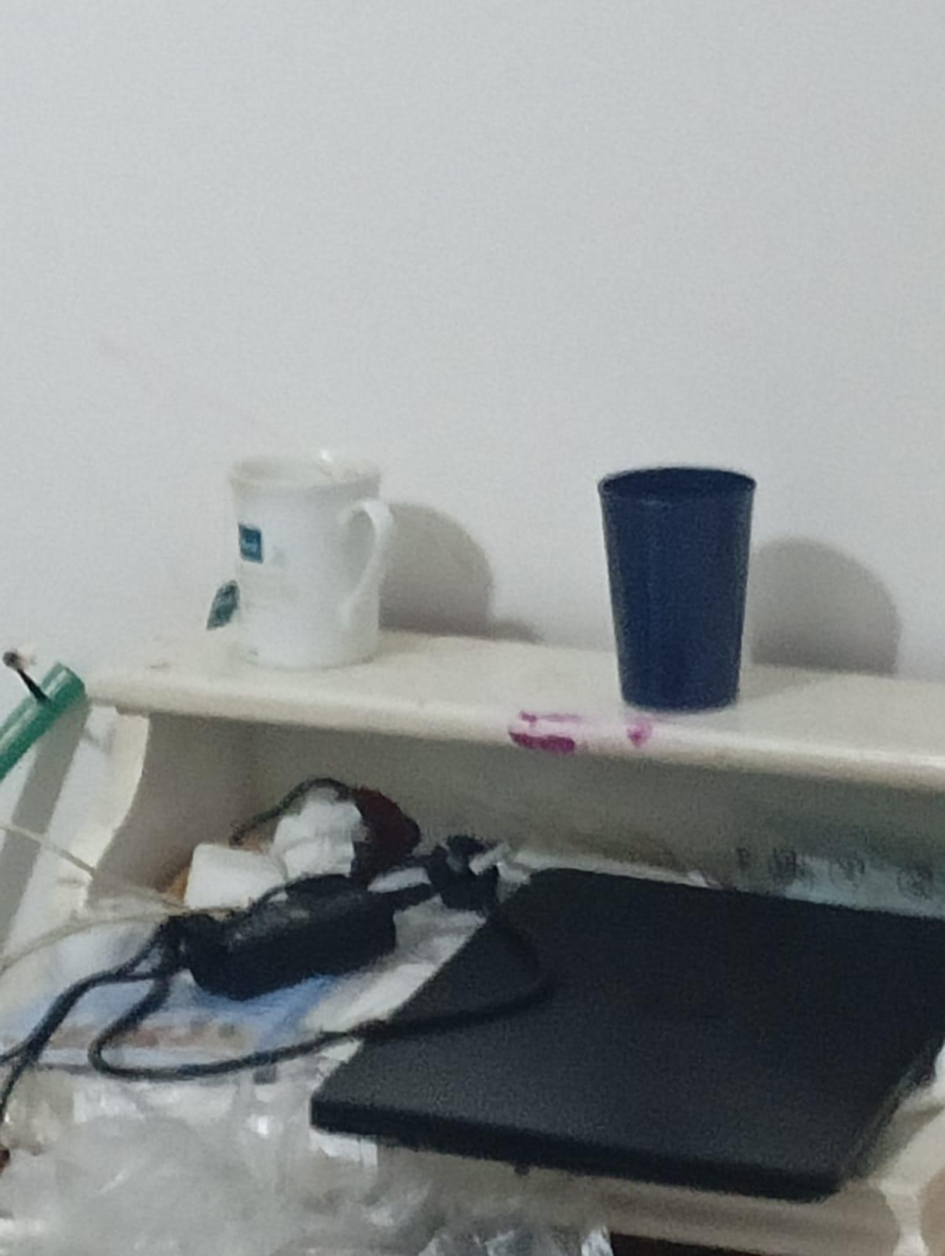cup: (599, 467, 754, 710), (230, 453, 392, 668)
